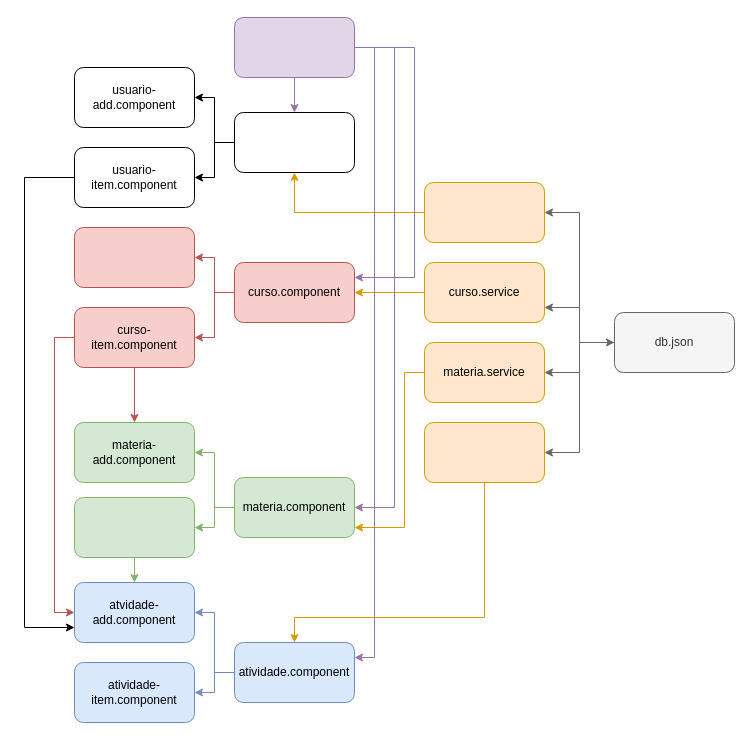
The diagram is 752 pixels wide and 740 high, and some of its shapes have lost their labels. The centre of each missing label's shape, as x and y in pixels:
"app.component" belongs at point 294,47.
"atividade.service" belongs at point 484,452.
"curso-add.component" belongs at point 134,257.
"materia-item.component" belongs at point 134,527.
"usuario.component" belongs at point 294,142.
"usuario.service" belongs at point 484,212.
